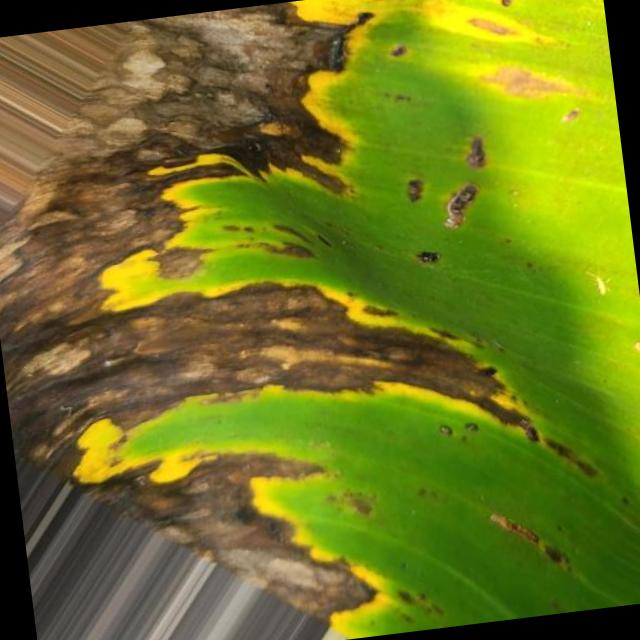Banana_Black_Sigatoka: (7, 270, 573, 640), (0, 0, 445, 317)
